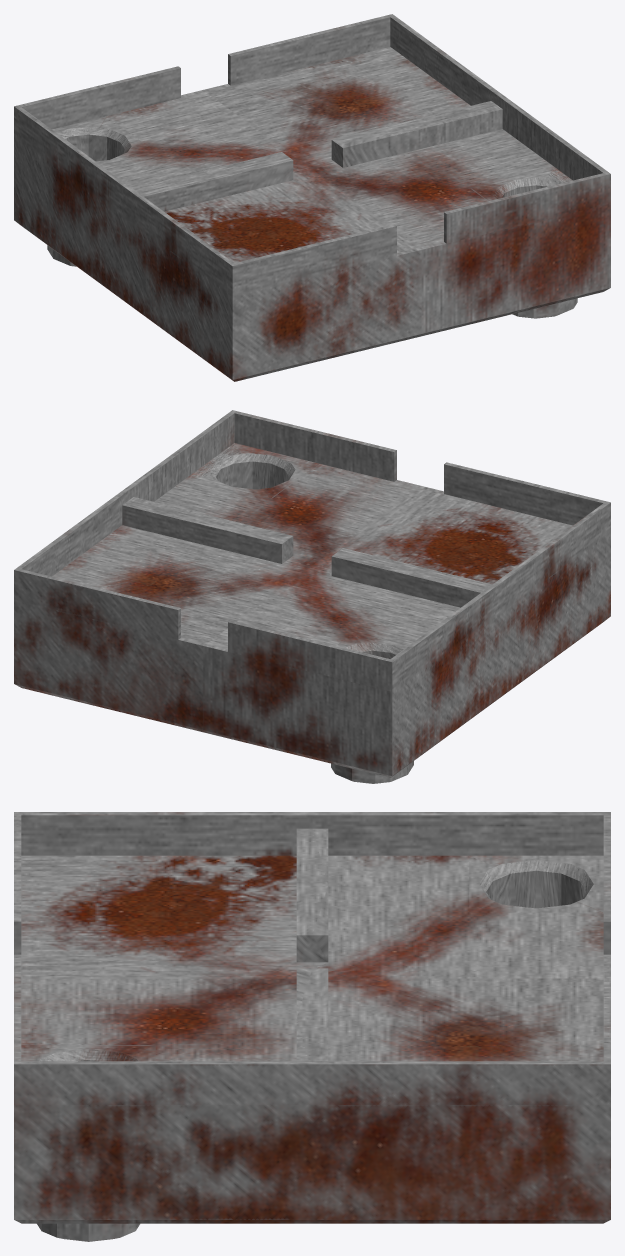
File: Stage1.fbx
The picture shows the model from 3 angles, top to bottom: view 1: azimuth 30°, elevation 25°; view 2: azimuth 150°, elevation 25°; view 3: azimuth 270°, elevation 25°; orthographic projection. The views are drawn at different scales.
Parts seen in each view (by area): view 1: SolidsStage.TutorialGameStage.FinalPoly; view 2: SolidsStage.TutorialGameStage.FinalPoly; view 3: SolidsStage.TutorialGameStage.FinalPoly.
Boxes of the visible parts, x1=… form: SolidsStage.TutorialGameStage.FinalPoly: x1=14, y1=14, x2=610, y2=381; SolidsStage.TutorialGameStage.FinalPoly: x1=14, y1=410, x2=610, y2=783; SolidsStage.TutorialGameStage.FinalPoly: x1=14, y1=812, x2=610, y2=1241.
Bounding box in the file's own units: 400 × 139 × 400.
